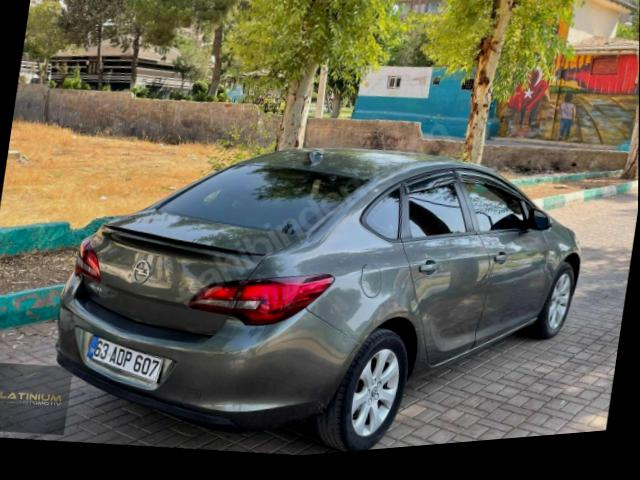plaka: (86, 336, 163, 383)
